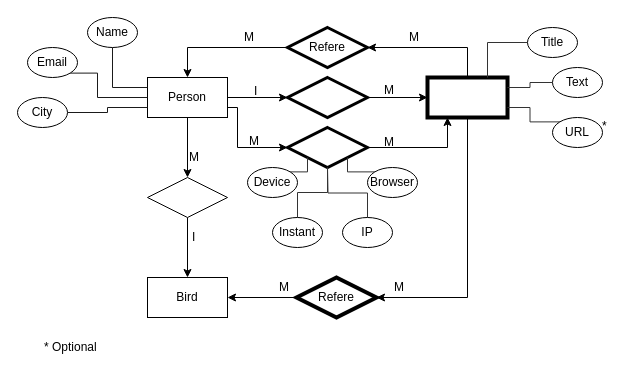
The diagram is 638 pixels wide and 375 high, and some of its shapes have lost their labels. Each missing label, with the box of its shape:
Favorites: (146, 176, 228, 218)
Makes: (286, 76, 368, 118)
Post: (425, 75, 509, 119)
View: (286, 126, 368, 168)
